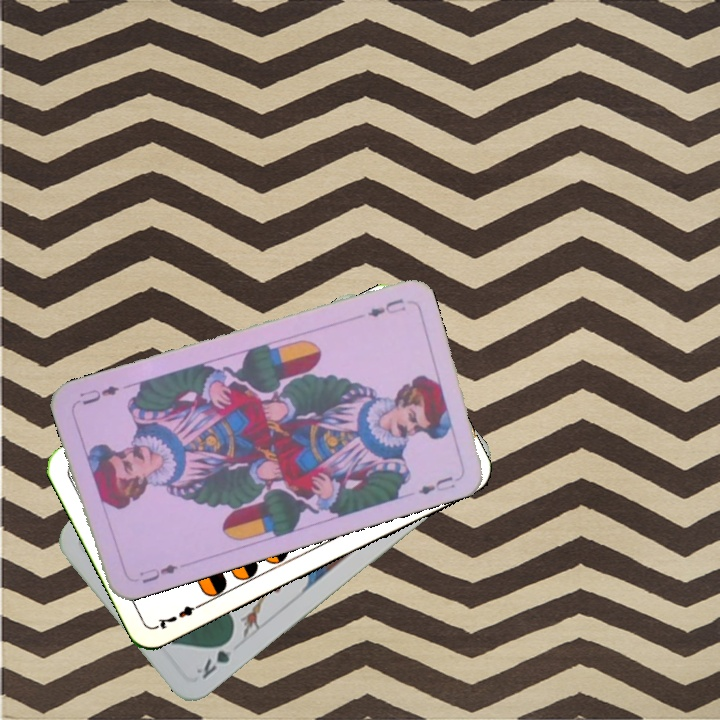E7: (152, 598, 208, 632)
EU: (135, 560, 180, 587), (363, 295, 409, 320)
GK: (192, 633, 236, 682)
